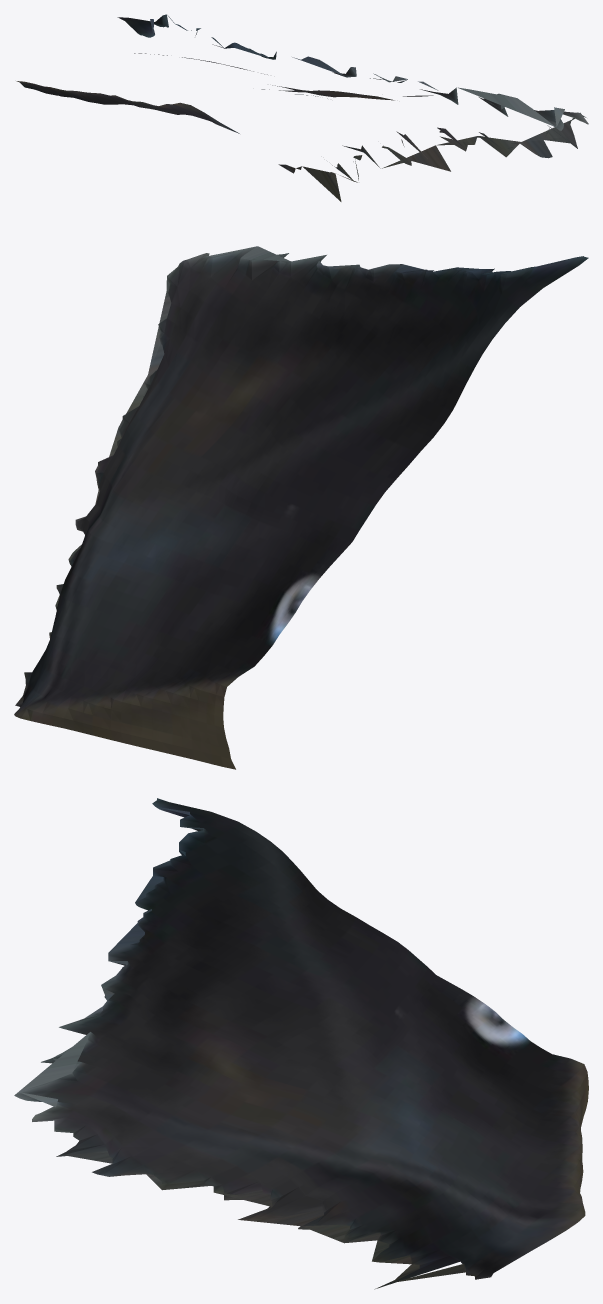
The model's file is observed-surface.glb.
3 views of the same model, one above another, from view 1: azimuth 30°, elevation 25°; view 2: azimuth 150°, elevation 25°; view 3: azimuth 270°, elevation 25° (orthographic). The views are drawn at different scales.
Parts seen in each view (by area): view 1: geometry_0; view 2: geometry_0; view 3: geometry_0.
Part boxes in pixels (x1,y1,x2,y2): geometry_0: [16, 14, 588, 201]; geometry_0: [14, 246, 588, 769]; geometry_0: [14, 798, 588, 1289].
Bounding box in the file's own units: 0.5749 × 0.4705 × 0.726.
Materials: 1 (1 with a texture image).
